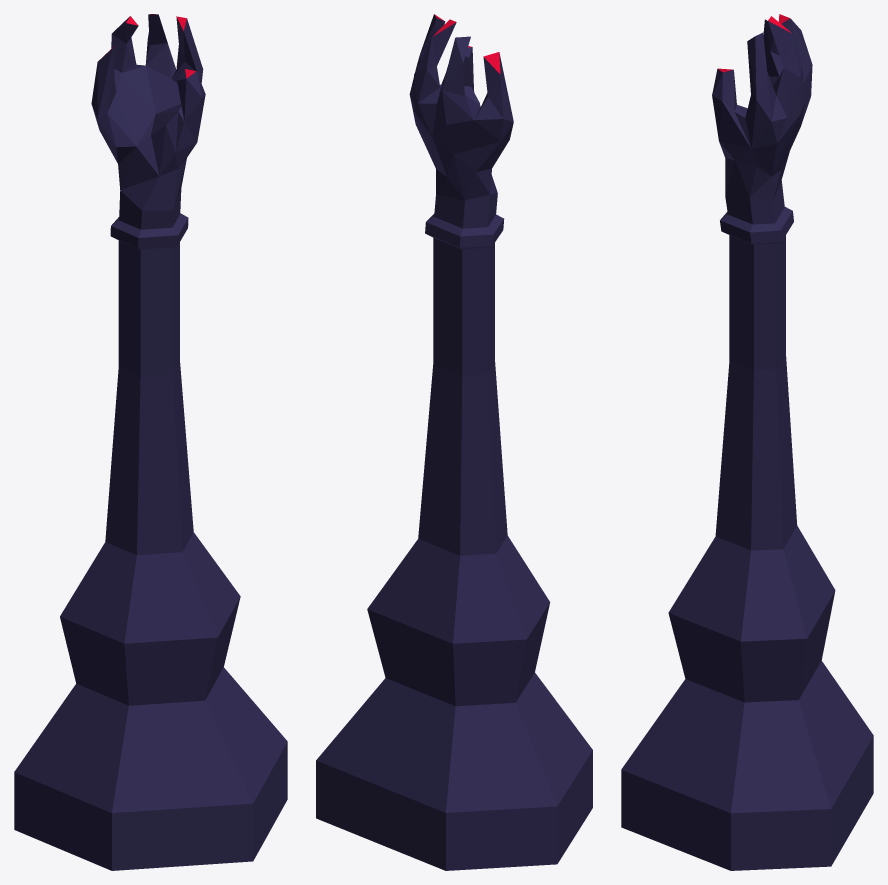
Rendered from c_pedestal.glb.
The picture shows the model from 3 angles, left to right: view 1: azimuth 30°, elevation 25°; view 2: azimuth 150°, elevation 25°; view 3: azimuth 270°, elevation 25°; orthographic projection.
Visible parts, largest first — view 1: C_Pedestal; view 2: C_Pedestal; view 3: C_Pedestal.
Part boxes in pixels (x1,y1,x2,y2): C_Pedestal: (14,14,287,870); C_Pedestal: (316,14,592,870); C_Pedestal: (621,14,873,870).
Bounding box in the file's own units: 0.2218 × 0.7162 × 0.2058.
Materials: 1 (1 with a texture image).
